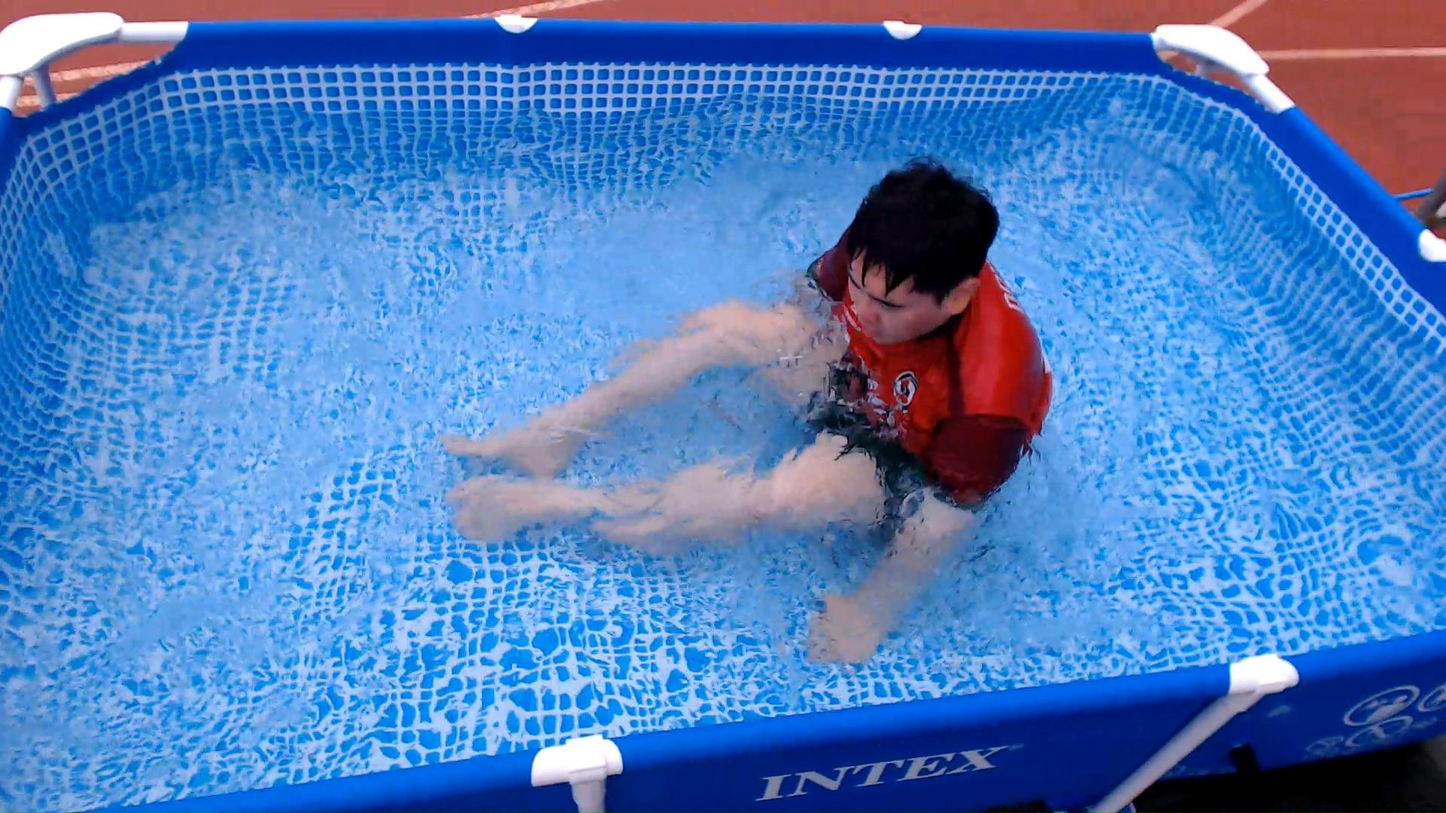Swimming: (397, 155, 1080, 648)
